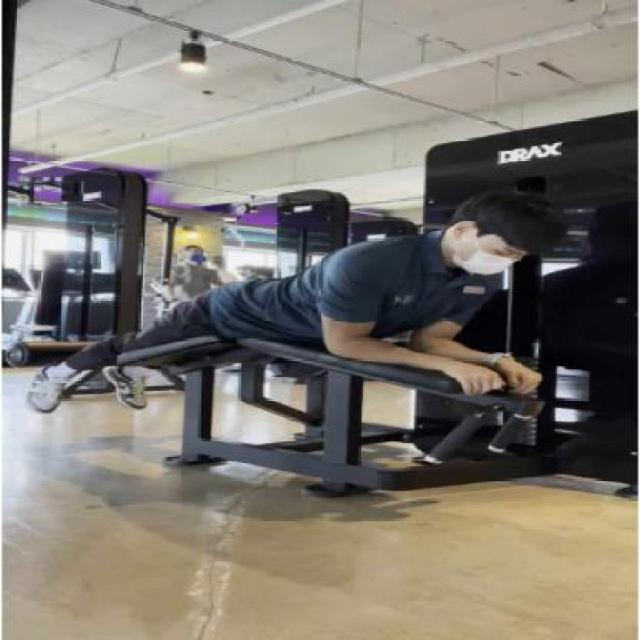reg curl machine: (4, 97, 640, 523)
